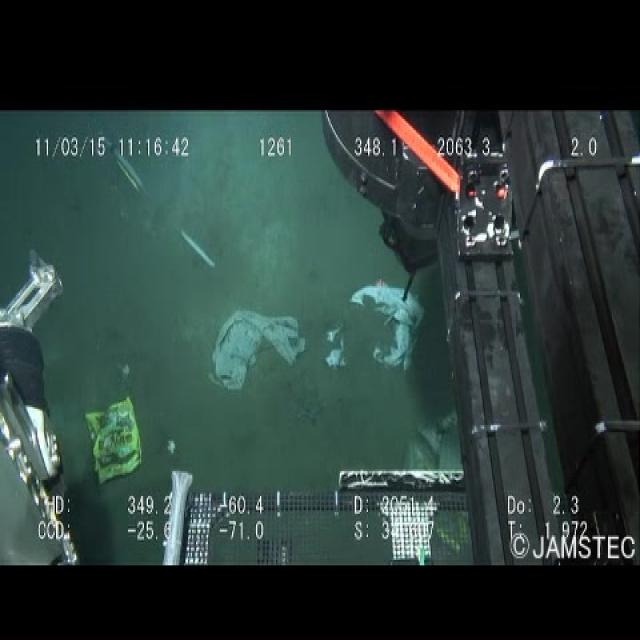plastic: (320, 274, 431, 380), (201, 302, 307, 395), (80, 391, 145, 487)
